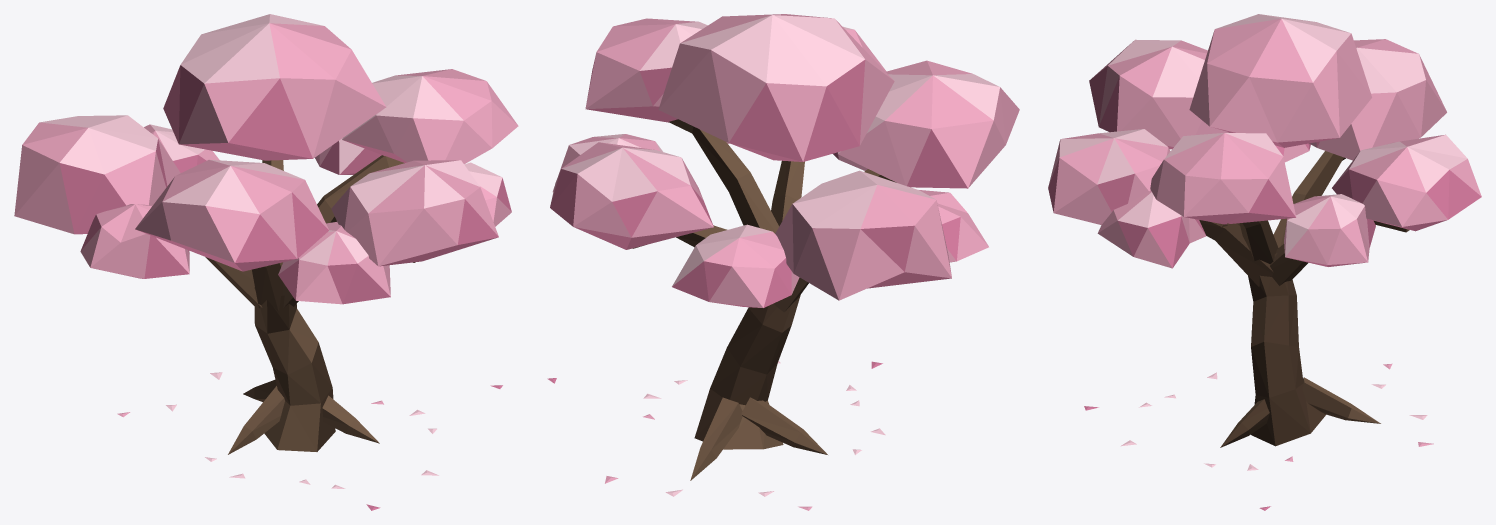
Rendered from tree_sakura_b.fbx.
The picture shows the model from 3 angles, left to right: view 1: azimuth 30°, elevation 25°; view 2: azimuth 150°, elevation 25°; view 3: azimuth 270°, elevation 25°; orthographic projection. The views are drawn at different scales.
Visible parts, largest first — view 1: tree_sakura_b; view 2: tree_sakura_b; view 3: tree_sakura_b.
Part boxes in pixels (box(x1,y1,x2,y2)): tree_sakura_b: box(14, 14, 518, 510); tree_sakura_b: box(547, 14, 1019, 510); tree_sakura_b: box(1048, 14, 1481, 510).
Bounding box in the file's own units: 7.16 × 6.62 × 6.48.
